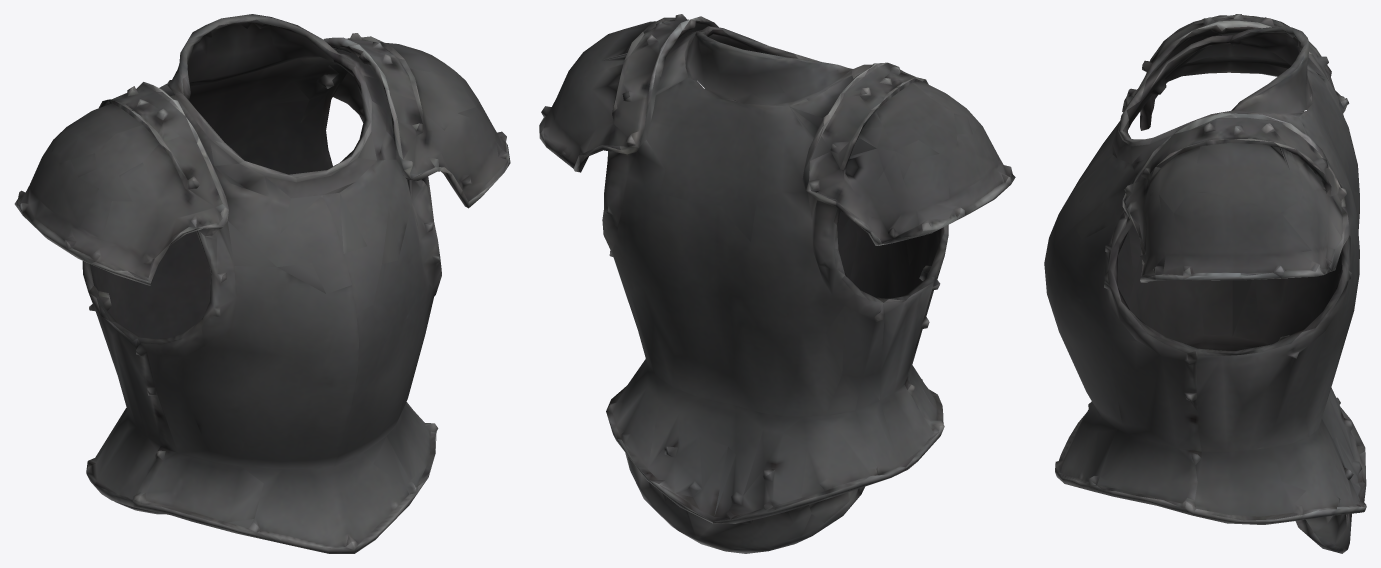
Rendered from plate-cuirass-v2-prepped.glb.
3 views of the same model, side by side, from view 1: azimuth 30°, elevation 25°; view 2: azimuth 150°, elevation 25°; view 3: azimuth 270°, elevation 25° (orthographic). The views are drawn at different scales.
Visible parts, largest first — view 1: cuirass; view 2: cuirass; view 3: cuirass.
Boxes of the visible parts, <box> form: cuirass: <box>14,14,510,553</box>; cuirass: <box>539,14,1015,553</box>; cuirass: <box>1044,14,1366,553</box>.
Size of the model in its own units: 0.9223 by 1 by 0.5929.
1 material, 1 textured.
